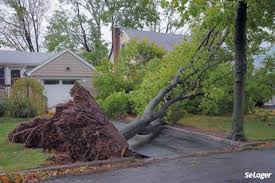obstacle: (30, 70, 208, 162)
